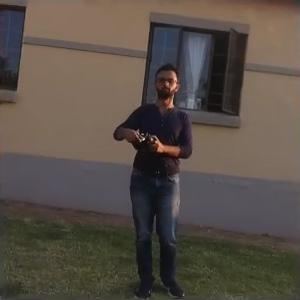follow: (110, 60, 199, 298)
